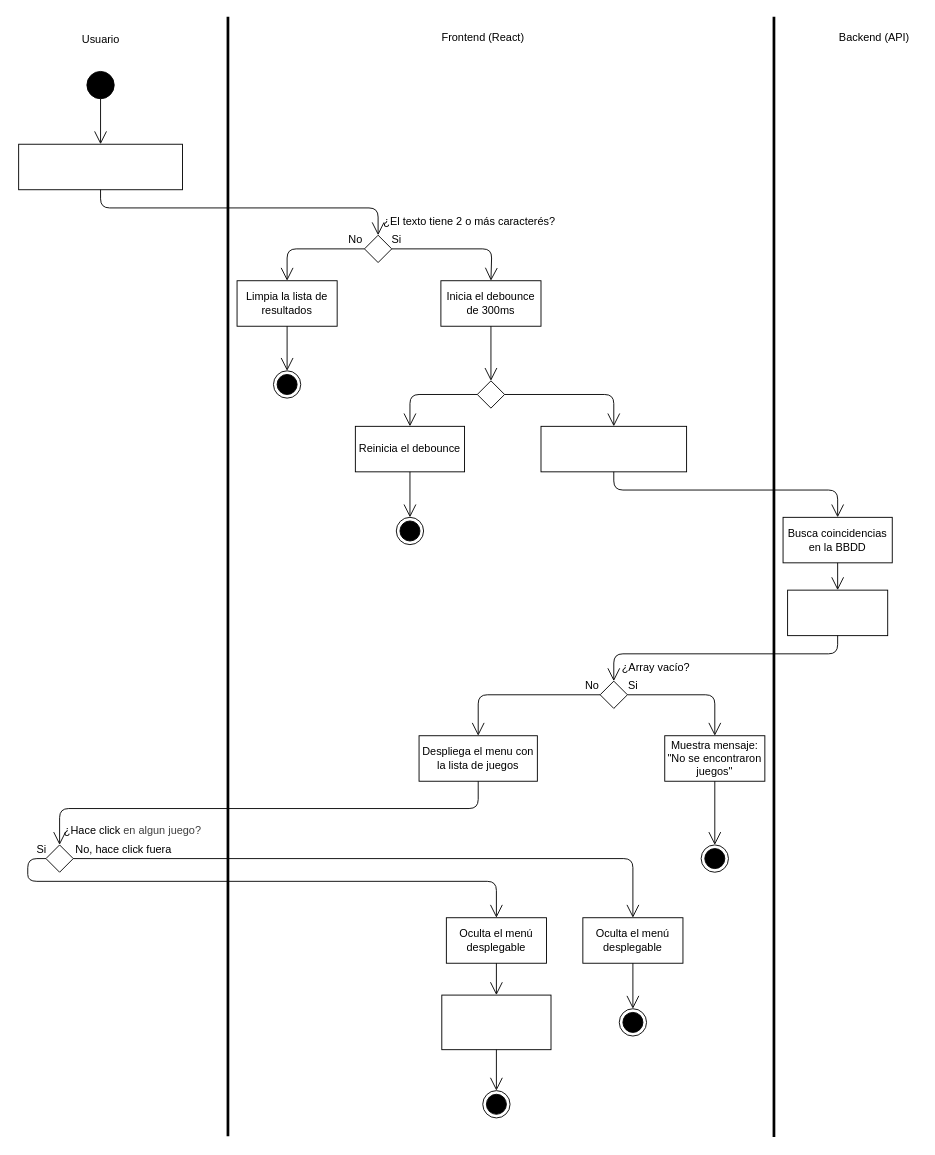
Some shapes in this 935 by 1155 pixel diagram are drawn without their labels. The box of each missing label's shape, as (x1, y1, x2, y2) in pixels:
Devuelve array de resultados: (787, 589, 888, 636)
Escribe texto en el buscador: (18, 143, 182, 190)
Hace petición GET a "api/juegos/buscar?q=texto": (540, 425, 687, 472)
Redirige a /game/{id}: (441, 994, 551, 1050)
